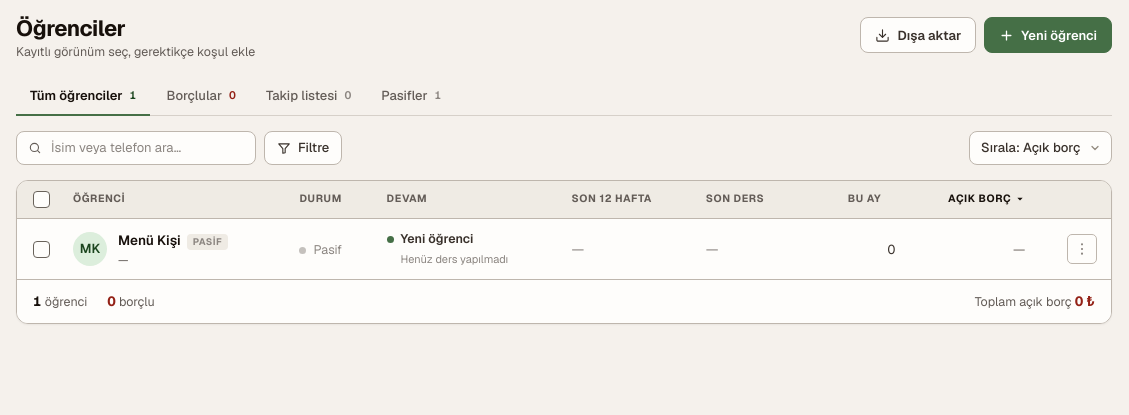
Scenario: StudentsPage › pasif öğrencinin menüsünde 'Tekrar aktif et' ve 'Tamamen sil' var
Expected: the text "Menü Kişi pasif" is shown, top-left (118, 230), bottom-right (228, 250)
Click the button named "İşlemler" at coordinates (1082, 249), box top-left (1067, 234), bottom-right (1097, 264)
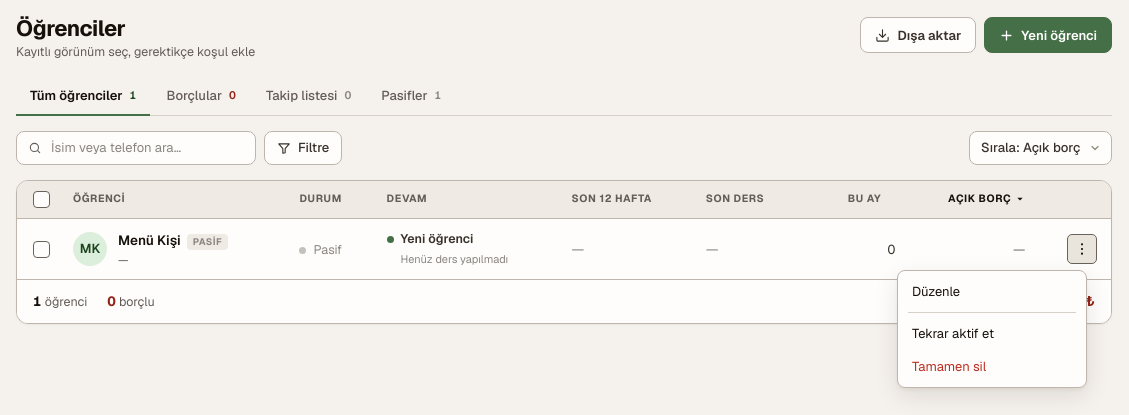
Expected: the menu item "Tekrar aktif et" is shown, top-left (902, 317), bottom-right (1082, 350)
Expected: the menu item "Tamamen sil" is shown, top-left (902, 350), bottom-right (1082, 383)
